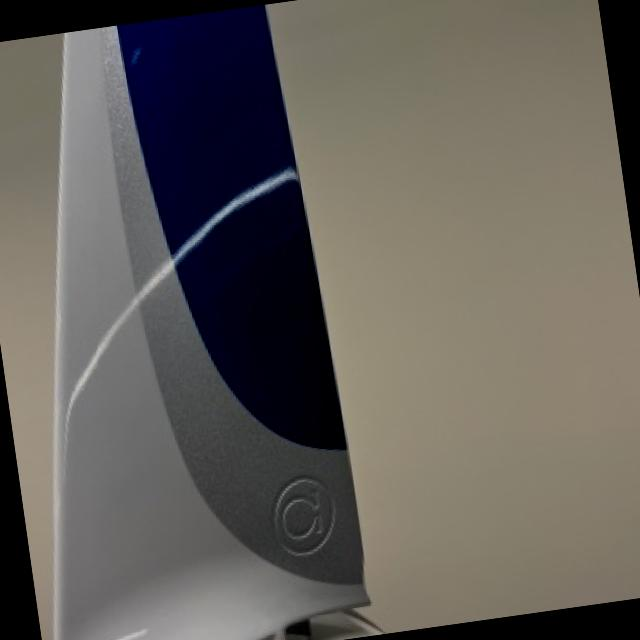healthy: (57, 5, 368, 640)
